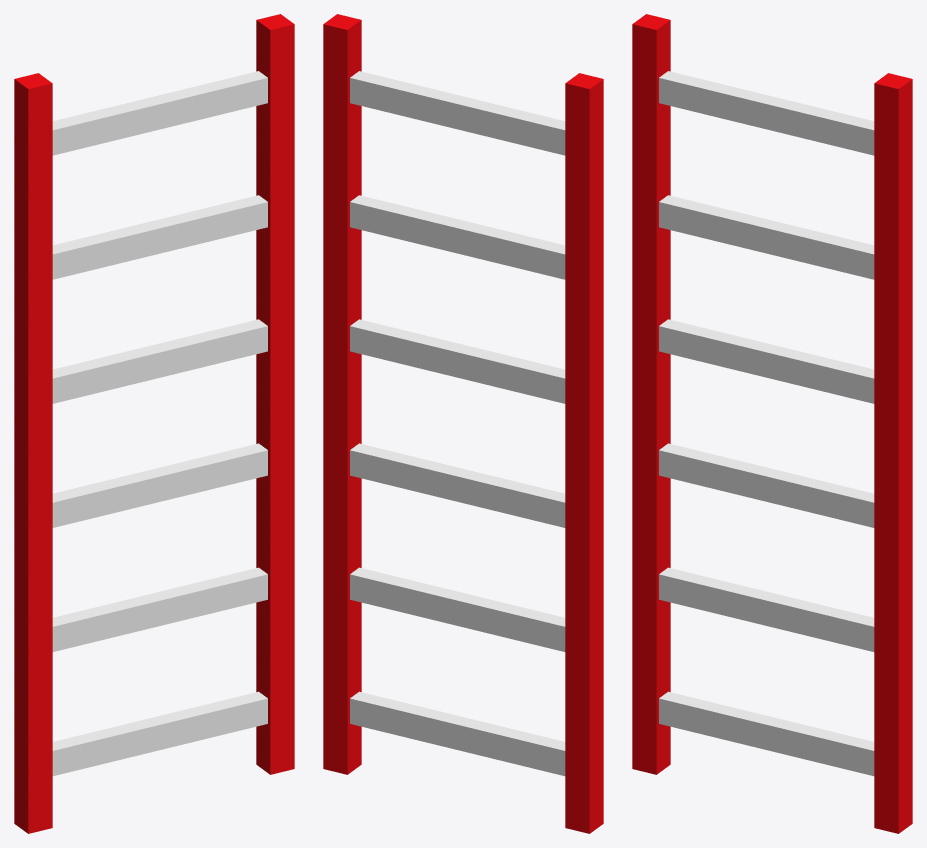
Rendered from Low_Poly_Ladder_01_Small.obj.
3 renders of one model, left to right at view 1: azimuth 30°, elevation 25°; view 2: azimuth 150°, elevation 25°; view 3: azimuth 330°, elevation 25°, orthographic.
Parts seen in each view (by area): view 1: Low_Poly_Ladder_01_Small_Cube.003; view 2: Low_Poly_Ladder_01_Small_Cube.003; view 3: Low_Poly_Ladder_01_Small_Cube.003.
Boxes of the visible parts, x1,y1,x2,y2 form: Low_Poly_Ladder_01_Small_Cube.003: [14, 14, 294, 833]; Low_Poly_Ladder_01_Small_Cube.003: [323, 14, 603, 833]; Low_Poly_Ladder_01_Small_Cube.003: [632, 14, 912, 833].
Bounding box in the file's own units: 2.2 × 5.88 × 0.2.
